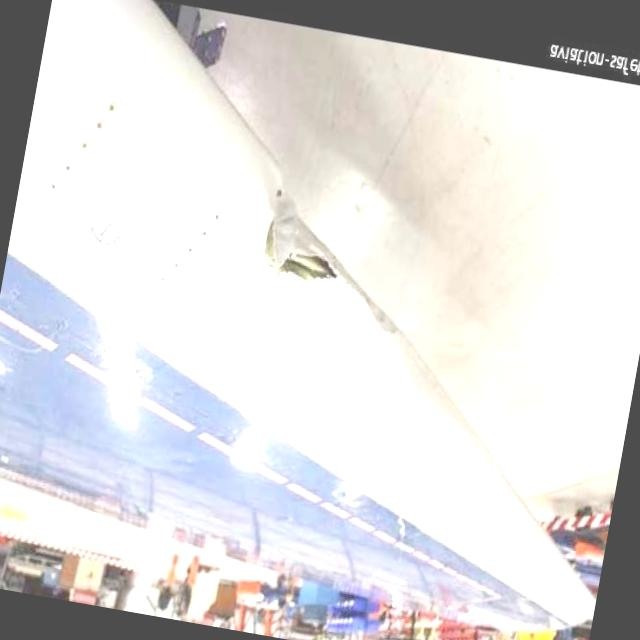crack: (258, 179, 354, 286)
dent: (382, 326, 490, 436), (360, 296, 408, 336)
